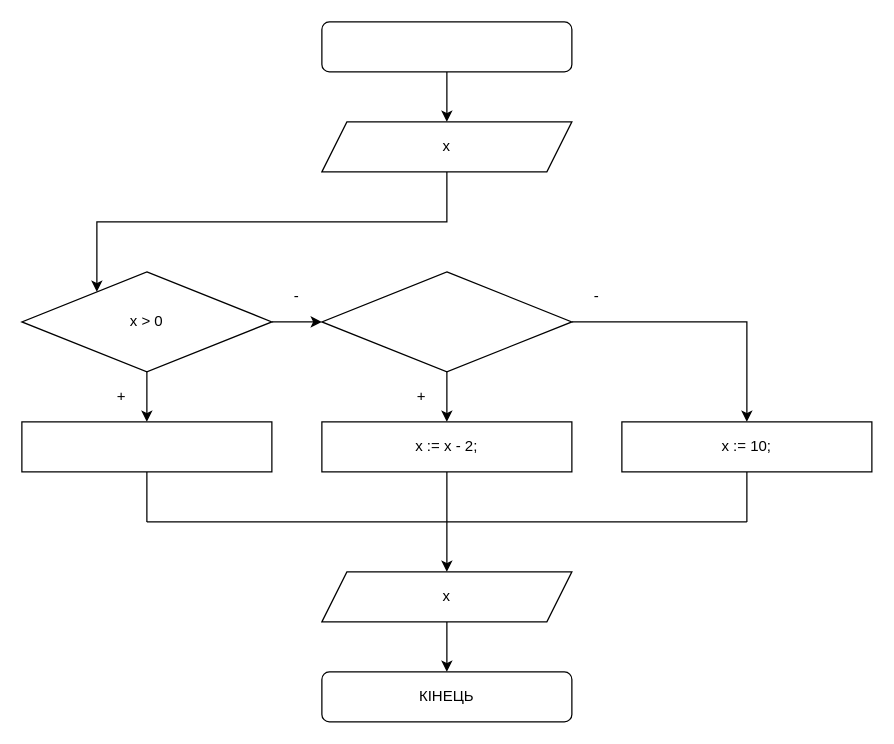
Image size: 894x744. Some labels were removed from this diagram. The centre of each missing label's shape, as x and y in pixels:
x := x + 1;: (x=146, y=446)
x < 0: (x=446, y=321)
ПОЧАТОК: (x=446, y=46)
